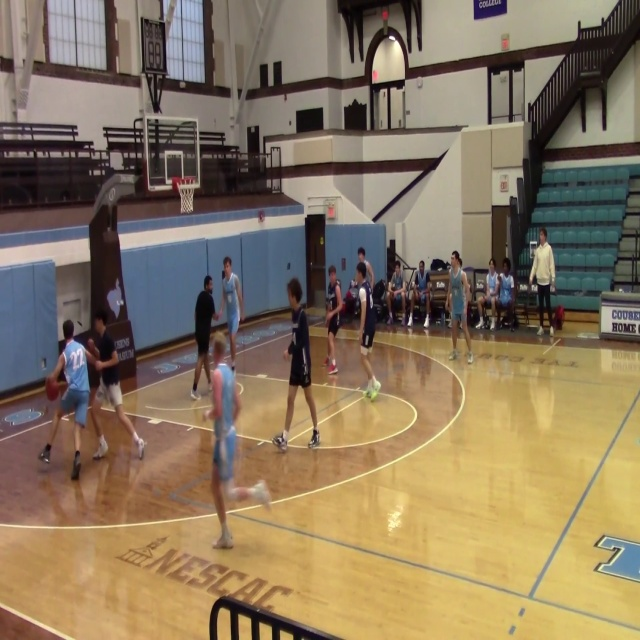Basketball: (45, 377, 60, 401), (86, 339, 100, 362)
